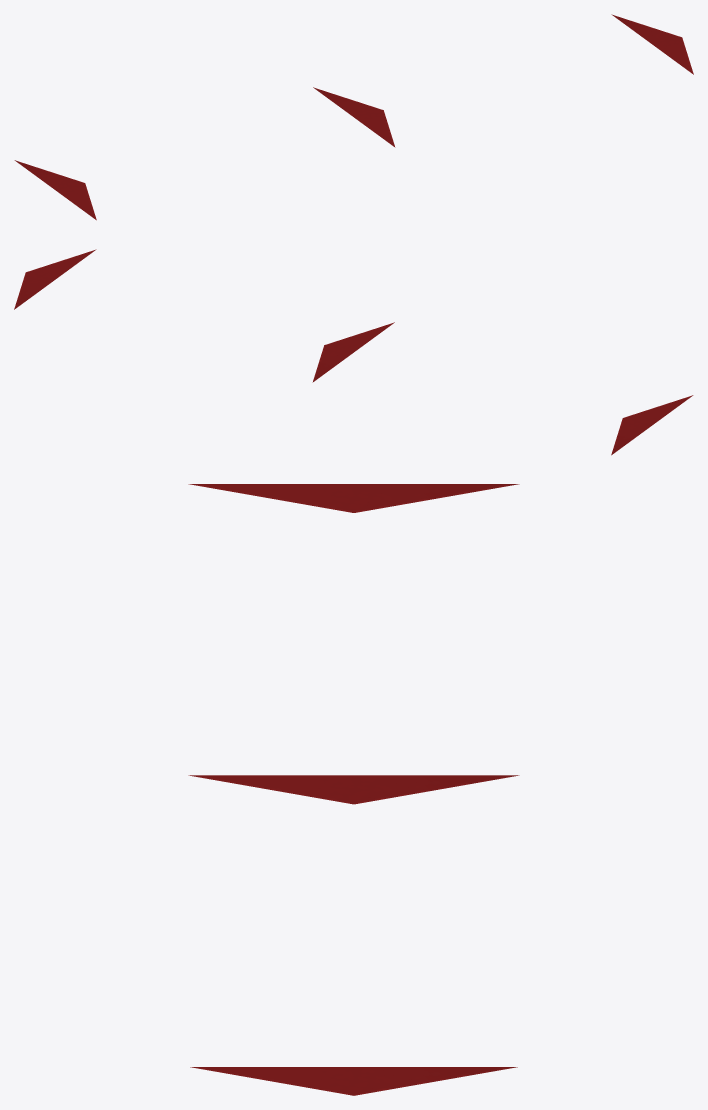
Rendered from bar_mesh.003_lev1.glb.
3 renders of one model, top to bottom at view 1: azimuth 30°, elevation 25°; view 2: azimuth 150°, elevation 25°; view 3: azimuth 270°, elevation 25°, orthographic. The views are drawn at different scales.
Visible parts, largest first — view 1: bar_mesh.003_lev1; view 2: bar_mesh.003_lev1; view 3: bar_mesh.003_lev1.
Boxes of the visible parts, bbox=[...] form: bar_mesh.003_lev1: bbox=[14, 14, 693, 220]; bar_mesh.003_lev1: bbox=[14, 249, 693, 455]; bar_mesh.003_lev1: bbox=[188, 484, 519, 1095].
Bounding box in the file's own units: 3.78 × 0 × 0.8665.
1 material, 1 textured.
